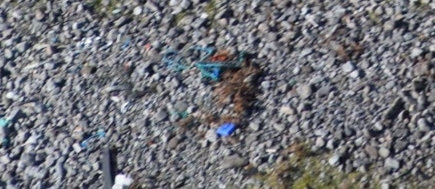net: (159, 43, 240, 80)
scattered_barrel: (73, 127, 136, 189)
straight_bar: (92, 142, 119, 189)
white_in_green: (206, 110, 246, 147)
